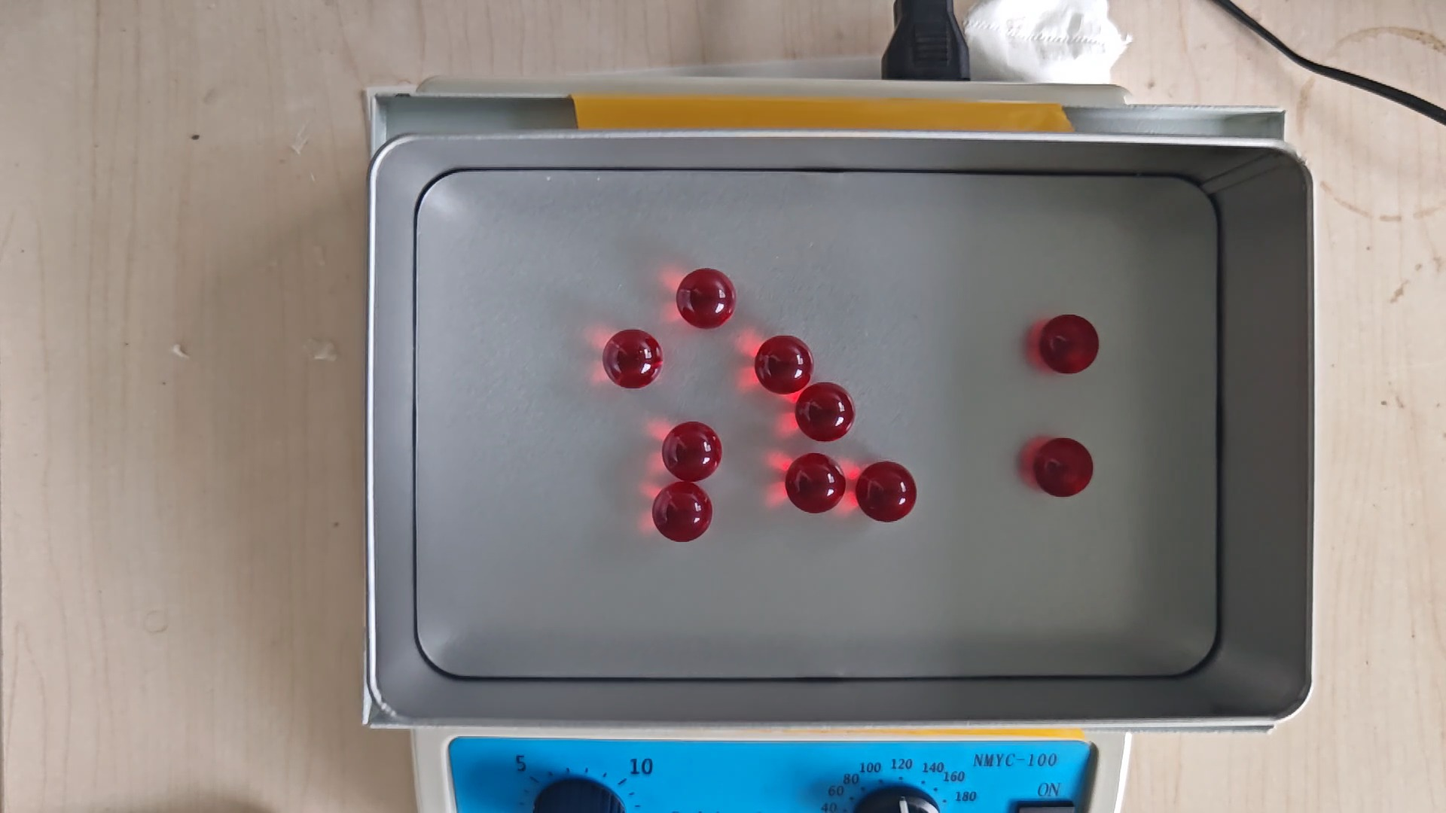ball: (651, 481, 714, 543), (856, 461, 918, 523), (662, 420, 722, 483), (1034, 436, 1094, 498), (603, 328, 663, 390), (1040, 313, 1100, 375), (786, 452, 845, 515), (676, 268, 736, 329), (795, 381, 854, 442), (755, 334, 813, 395)
container: (414, 170, 1219, 679)
